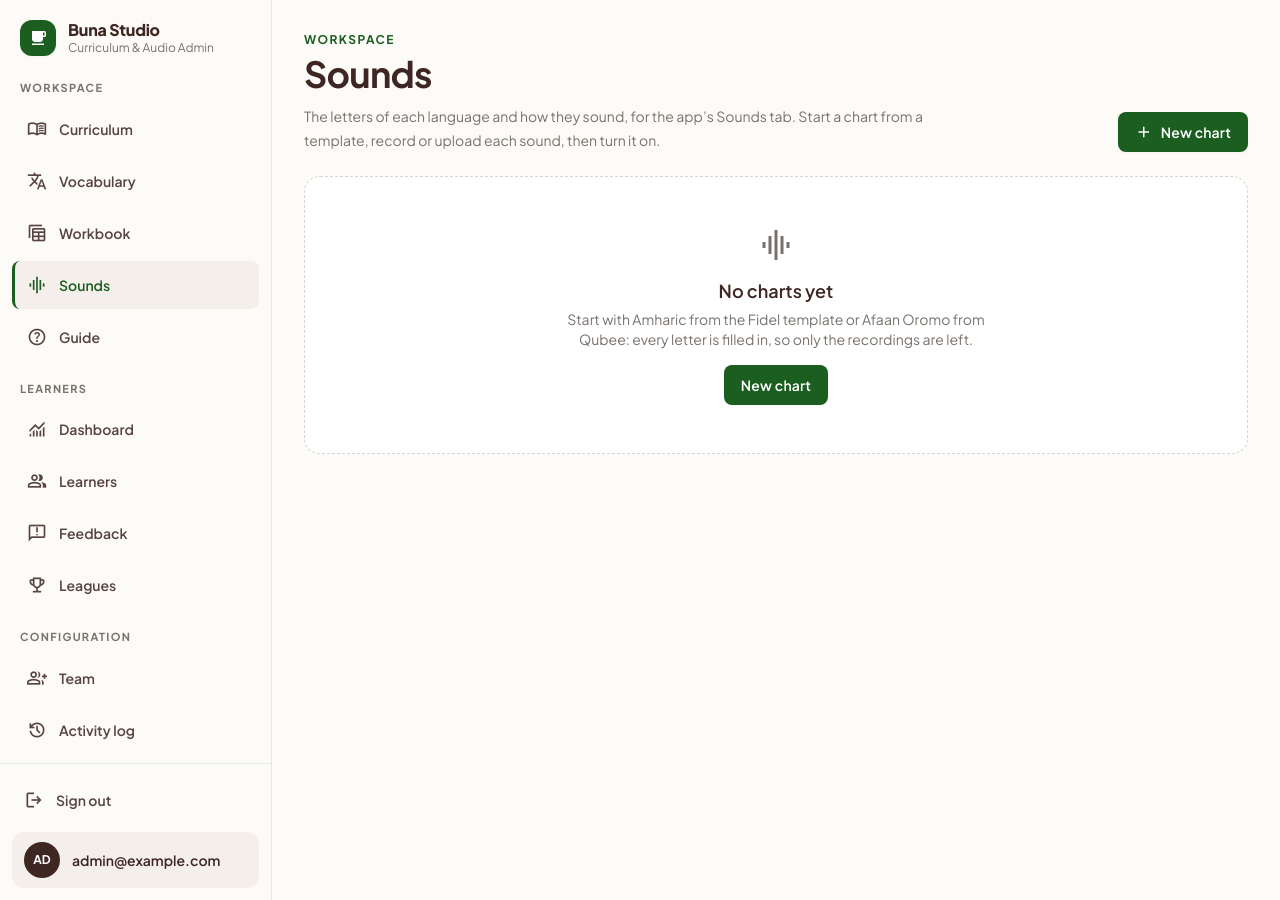
Test: the Sounds list › starts a chart from a template, choosing it to suit the language
This screenshot has width=1280, height=900.
Click the 1st button "New chart" at (1183, 132), box [1118,112,1248,152]
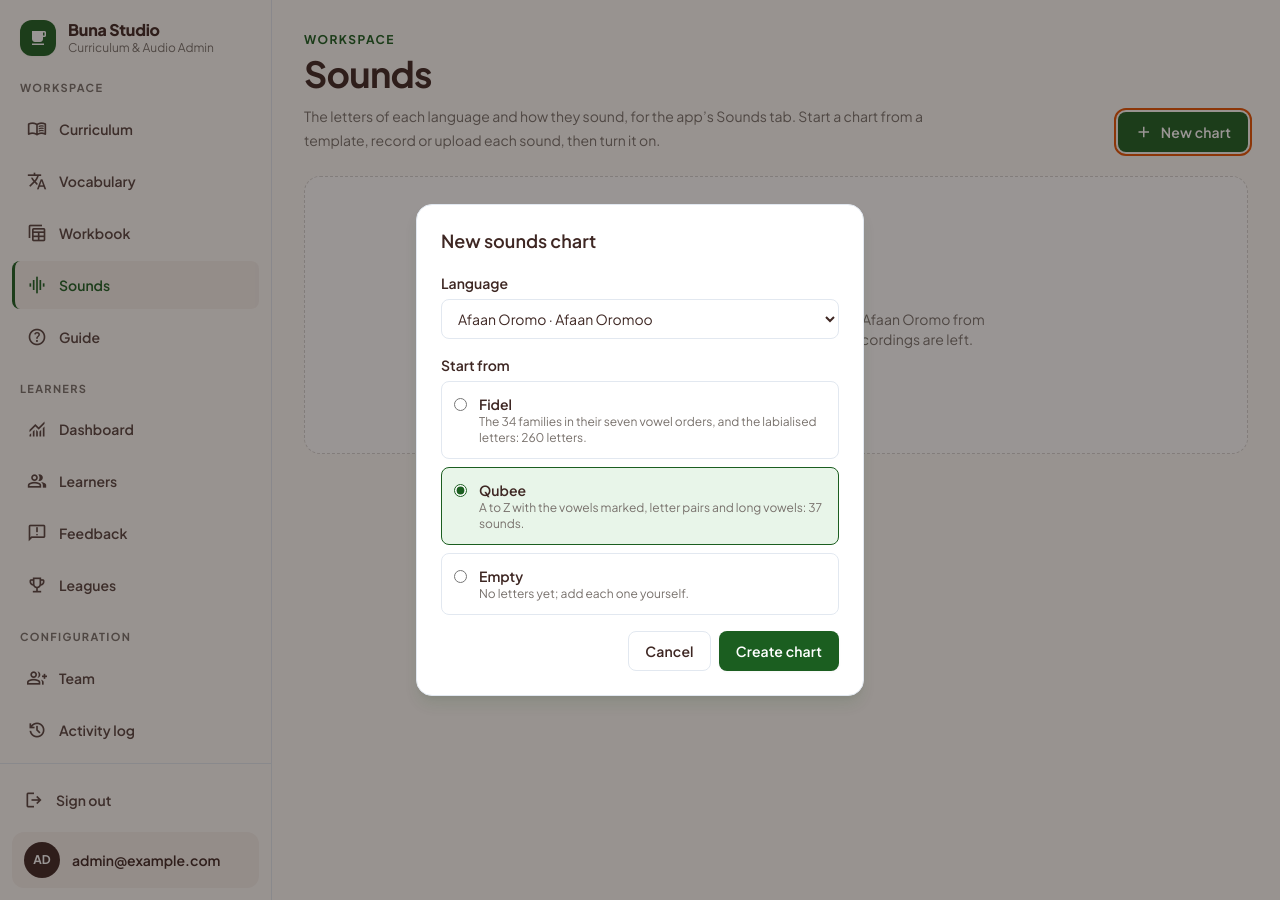
expect the radio button labelled "Qubee" is checked: met, box [454,484,467,497]
Click the button "Create chart" at (779, 651), box [719,631,839,671]
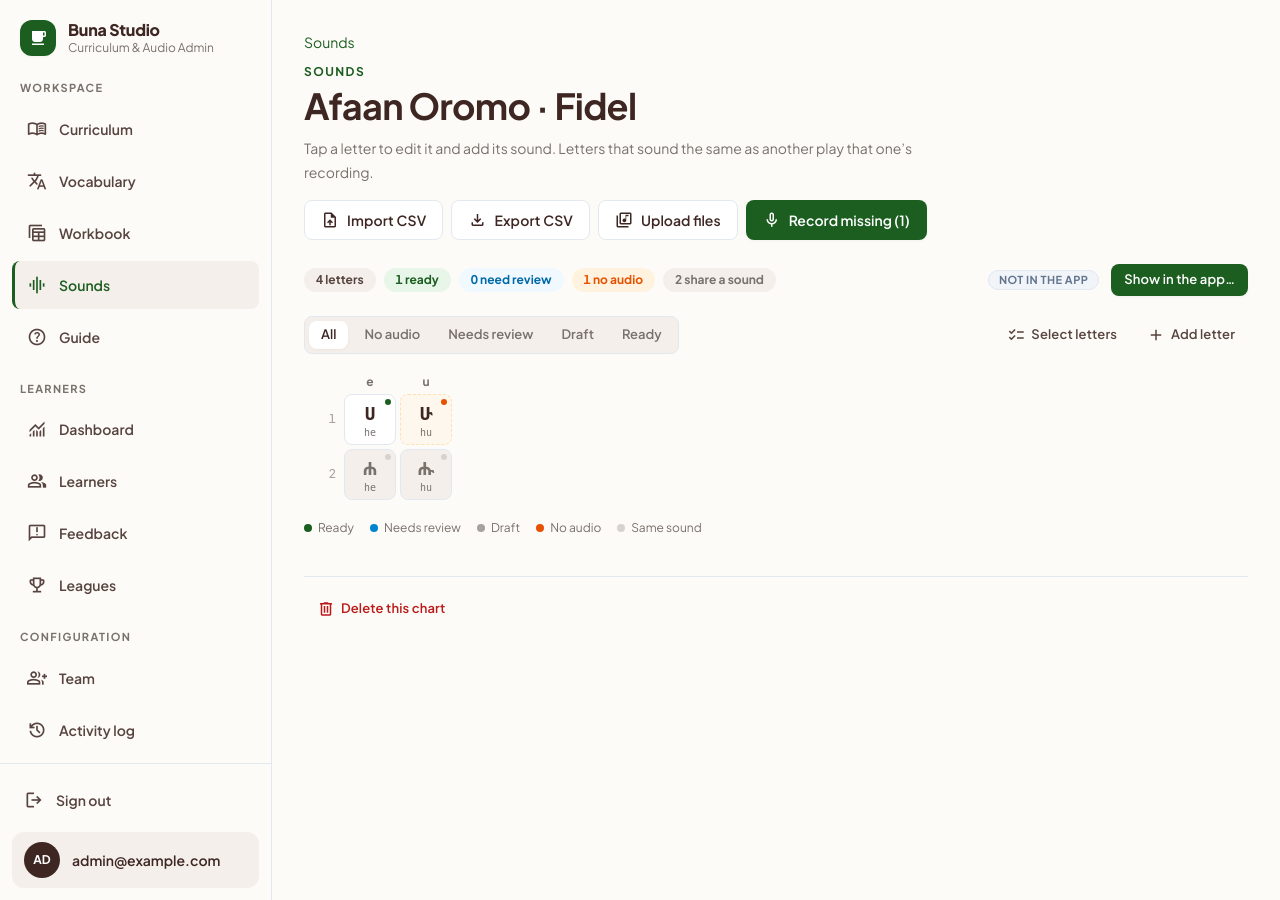
expect the heading "Afaan Oromo · Fidel" is shown: met, box [304,83,636,128]
